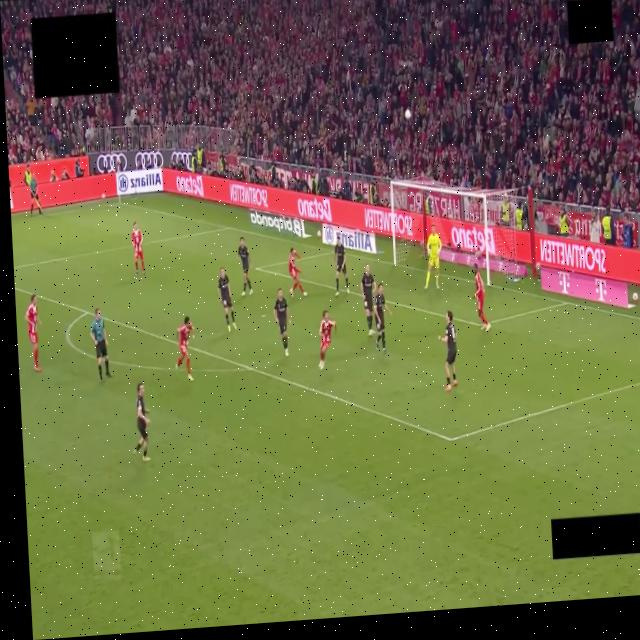ball: (404, 109, 411, 120)
player: (438, 311, 457, 392), (373, 284, 391, 354), (24, 295, 40, 372), (217, 268, 236, 331), (134, 383, 149, 462), (273, 288, 290, 356), (473, 264, 490, 331), (176, 316, 193, 381), (360, 265, 375, 335), (424, 226, 440, 289), (318, 311, 335, 369), (333, 235, 348, 295), (288, 247, 306, 297), (238, 237, 251, 295), (131, 222, 145, 275)
referee: (89, 308, 110, 382)
